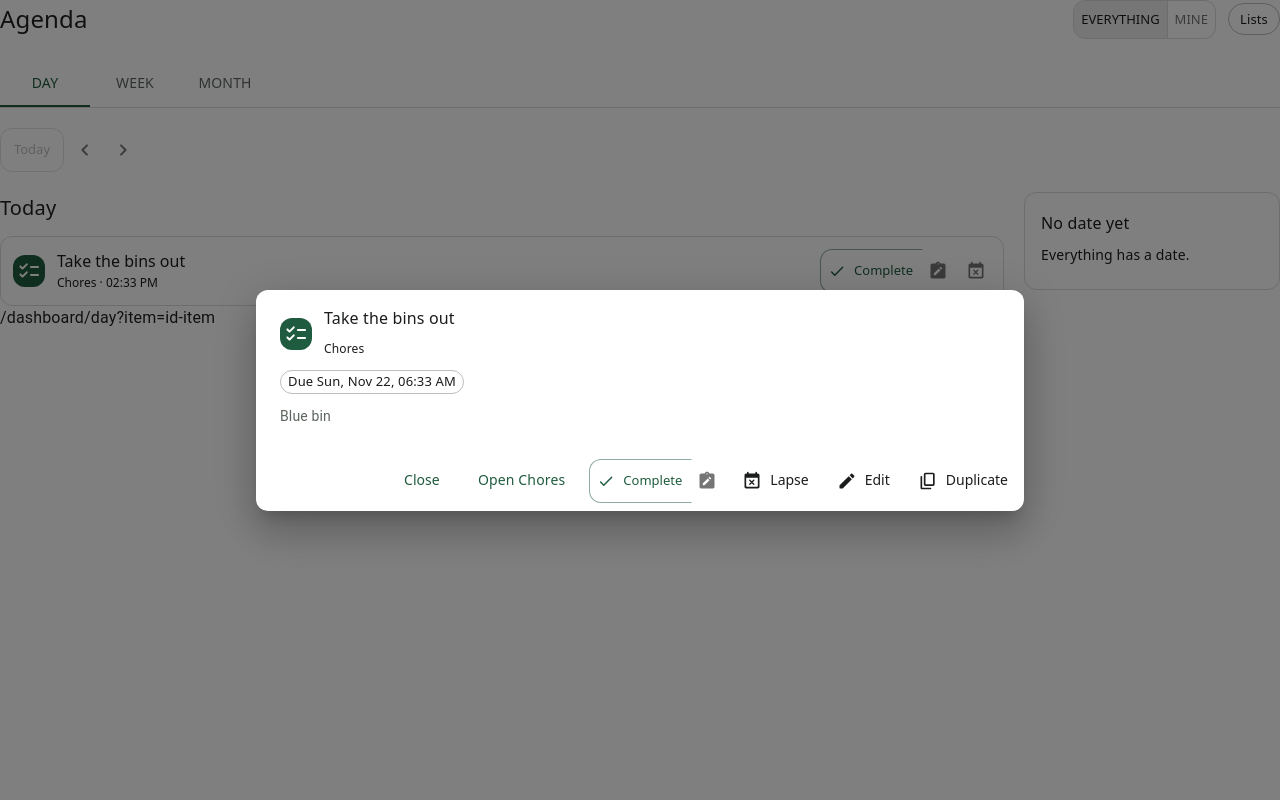
Test: DashboardPage › opens an item from the URL and closes it again
Expected: the dialog is shown, top-left (256, 290), bottom-right (1024, 510)
Expected: the text "Blue bin" is shown, top-left (280, 408), bottom-right (331, 424)
Click the button "Close" at (422, 480), box top-left (390, 458), bottom-right (454, 502)
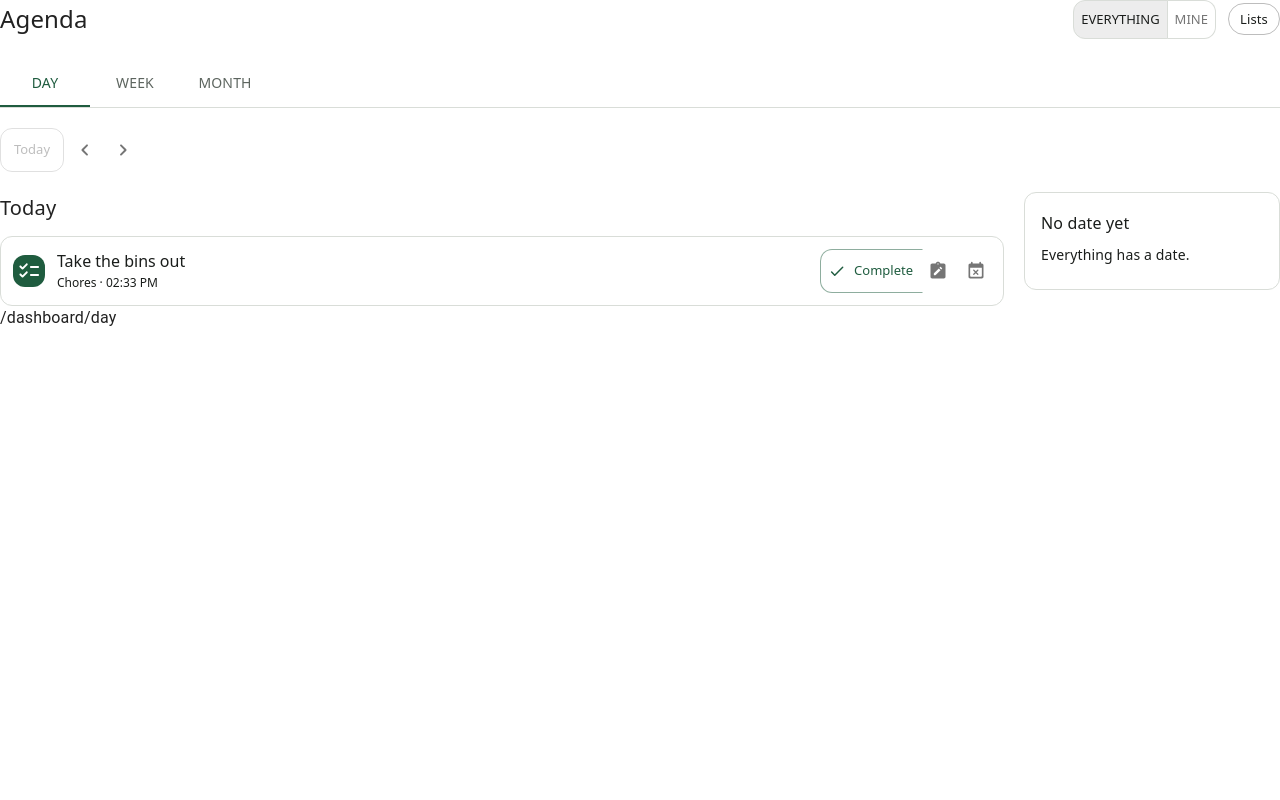
Expected: the dialog is gone
